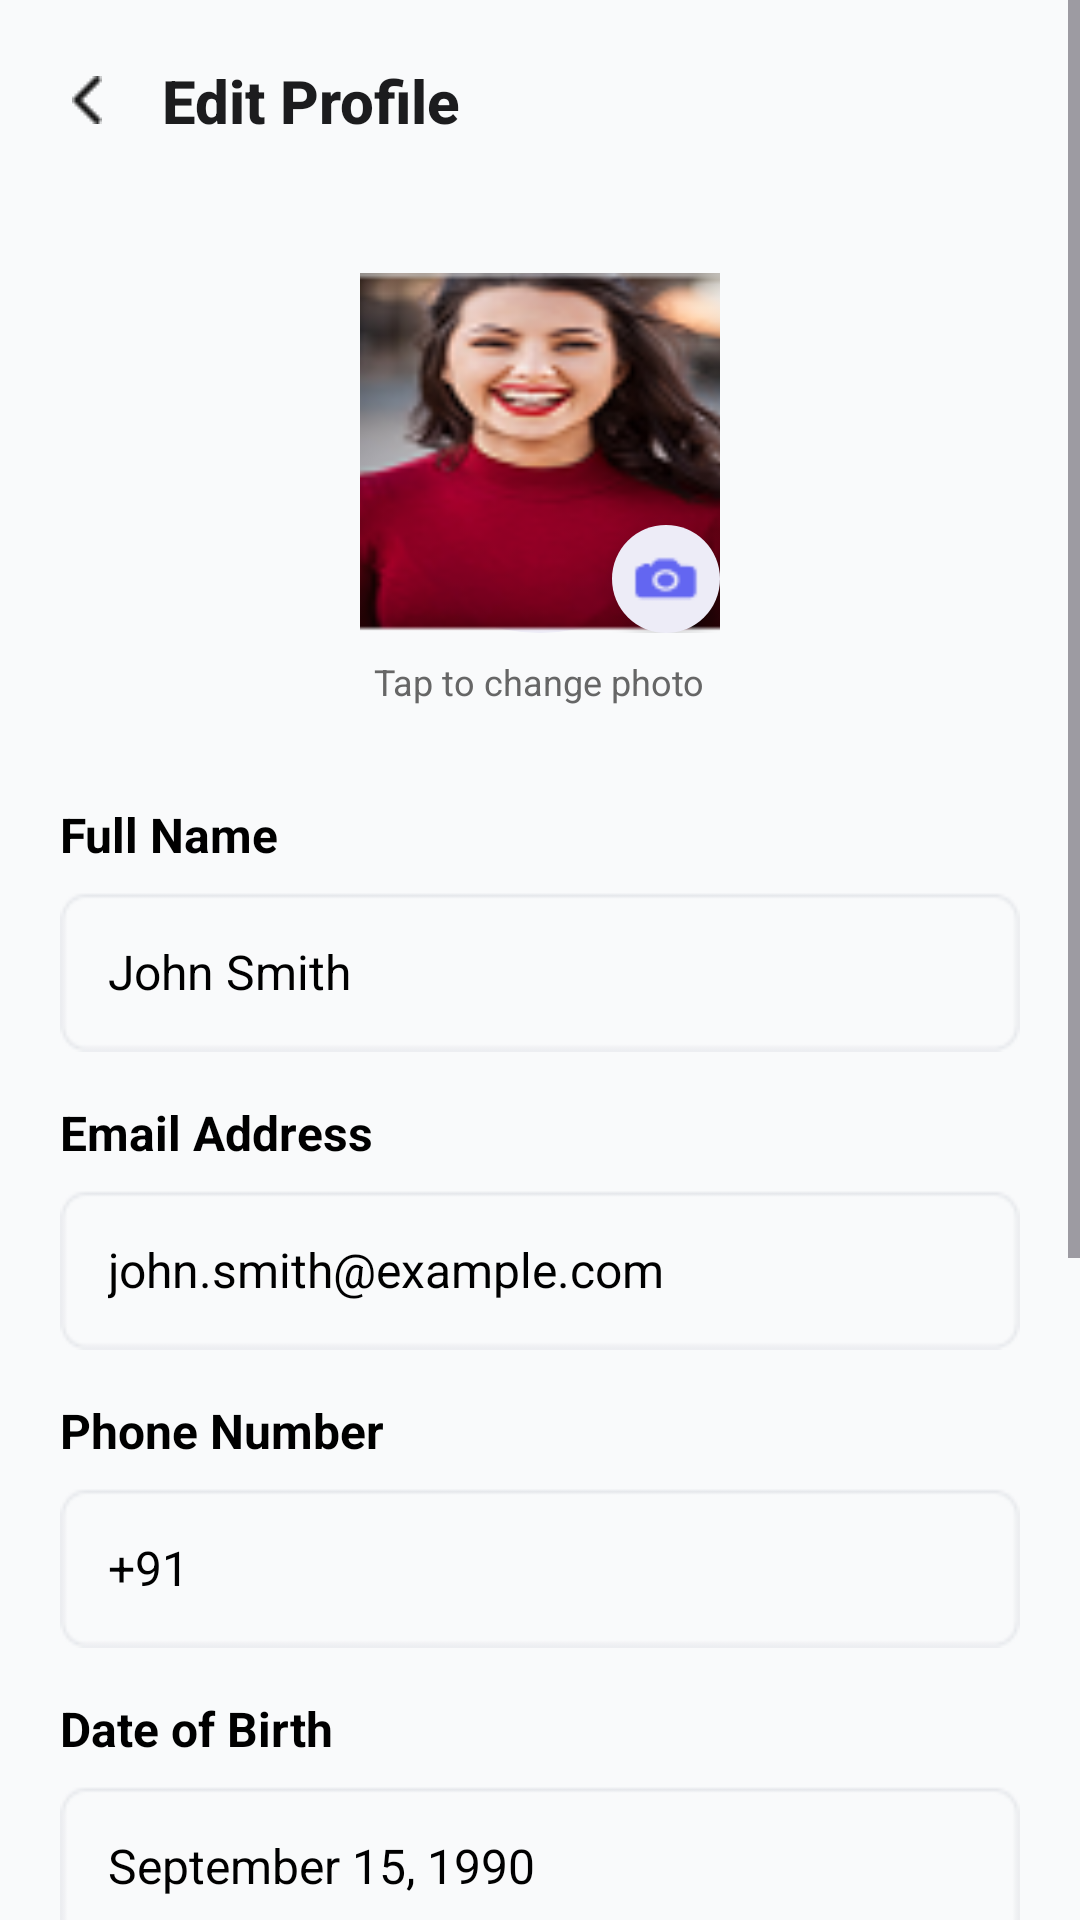

Named icons in this screenshot (1080 x 1920) and their centers, point (x, y):
Back: point (87, 100)
